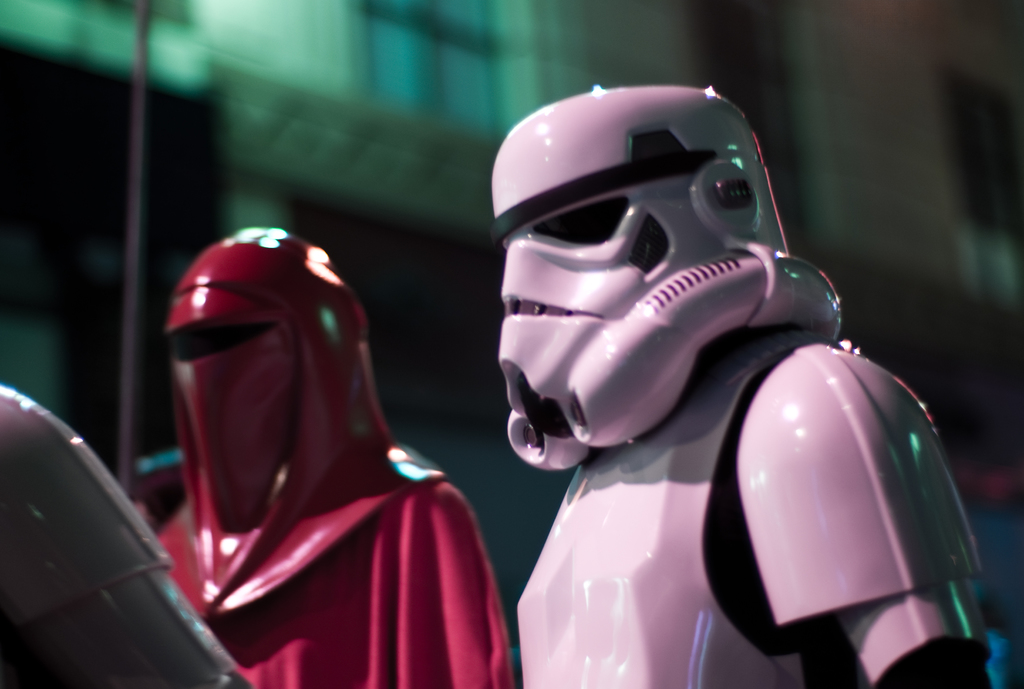Person: (490, 86, 993, 688), (151, 224, 518, 689)
